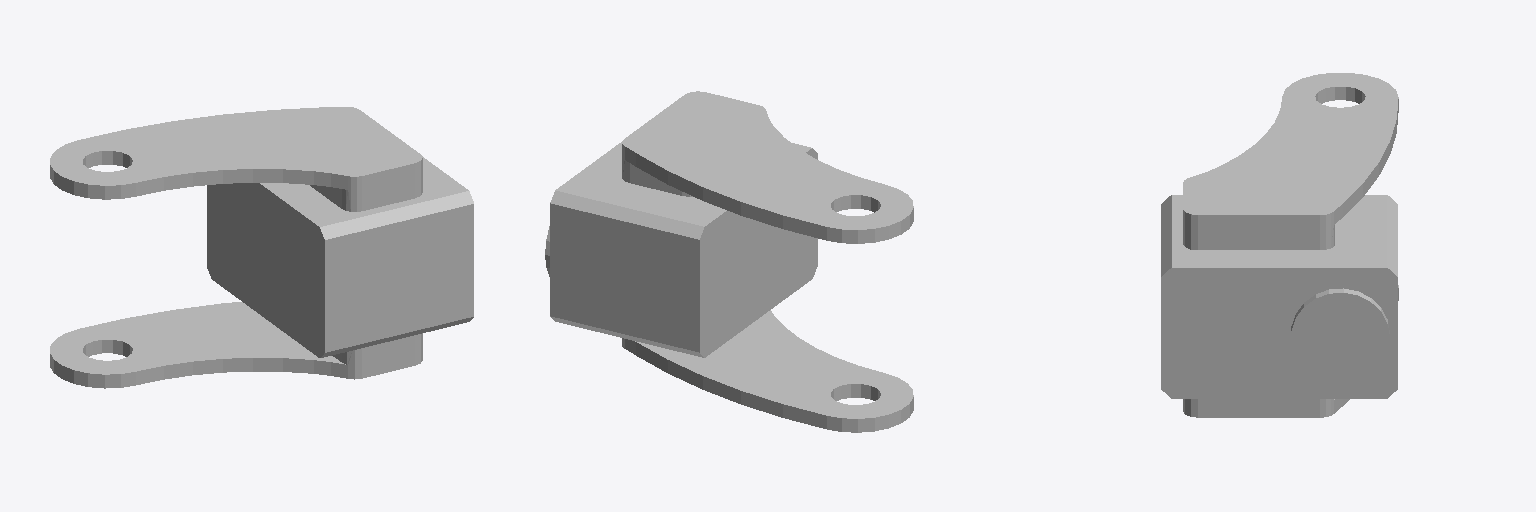
File: wrist_link.obj
The picture shows the model from 3 angles: view 1: azimuth 30°, elevation 25°; view 2: azimuth 150°, elevation 25°; view 3: azimuth 270°, elevation 25°; orthographic projection.
Size of the model in its own units: 0.0763 by 0.044 by 0.0467.